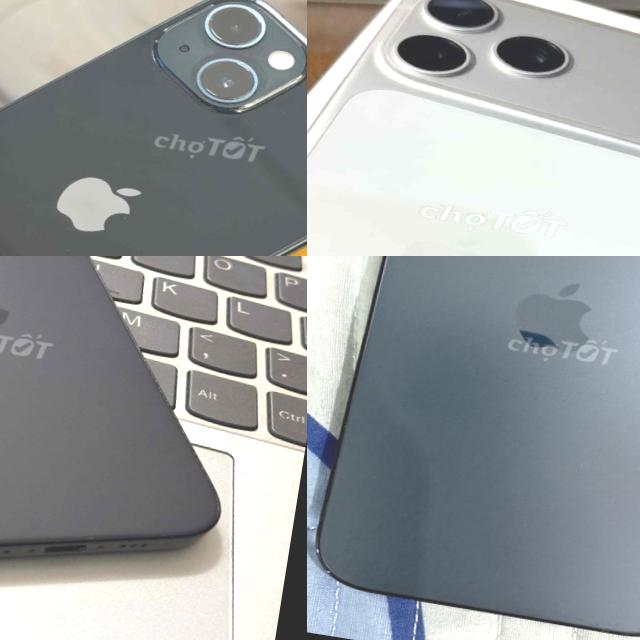gen_12_13: (307, 256, 640, 640), (0, 0, 307, 256)
gen_15: (0, 256, 282, 617)
gen_17: (307, 0, 640, 256)
